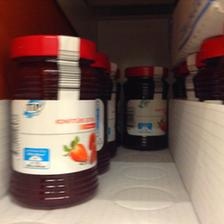Marmelade: (7, 34, 98, 210), (122, 64, 170, 150)
